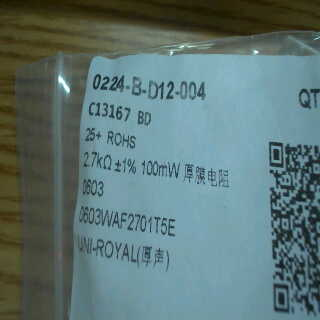2.7kR: (77, 147, 114, 172)
